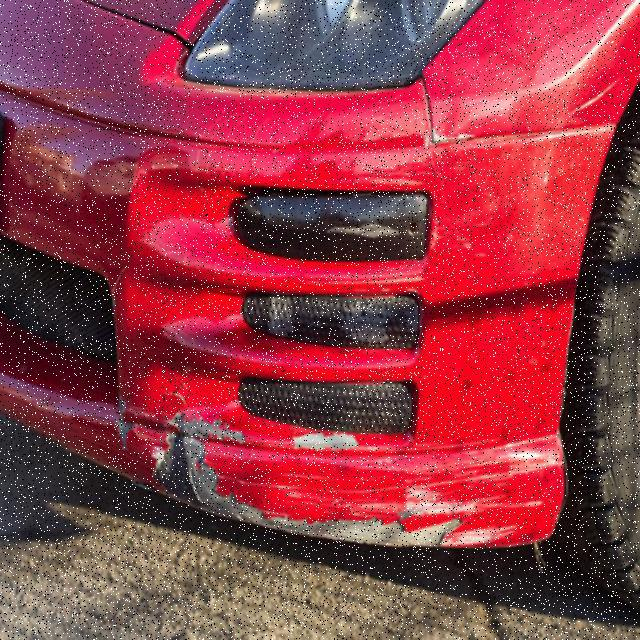front-bumper-dent: (108, 81, 624, 560)
